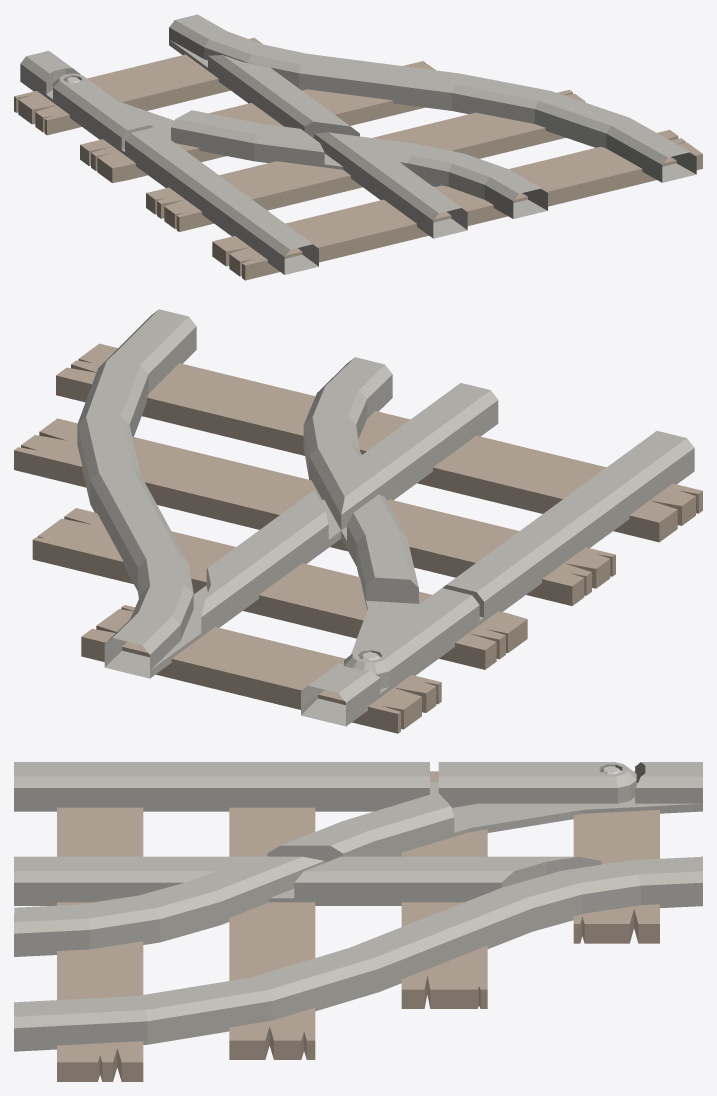
The model's file is Cave_Prop_Railway_Switch.glb.
The picture shows the model from 3 angles, top to bottom: view 1: azimuth 30°, elevation 25°; view 2: azimuth 150°, elevation 25°; view 3: azimuth 270°, elevation 25°; orthographic projection. The views are drawn at different scales.
Parts seen in each view (by area): view 1: Cave_Prop_Railway_Switch; view 2: Cave_Prop_Railway_Switch; view 3: Cave_Prop_Railway_Switch.
Part boxes in pixels (bbox=[...]): Cave_Prop_Railway_Switch: bbox=[14, 14, 702, 280]; Cave_Prop_Railway_Switch: bbox=[14, 309, 702, 733]; Cave_Prop_Railway_Switch: bbox=[14, 762, 702, 1081].
Bounding box in the file's own units: 1.06 × 0.0795 × 1.06.
